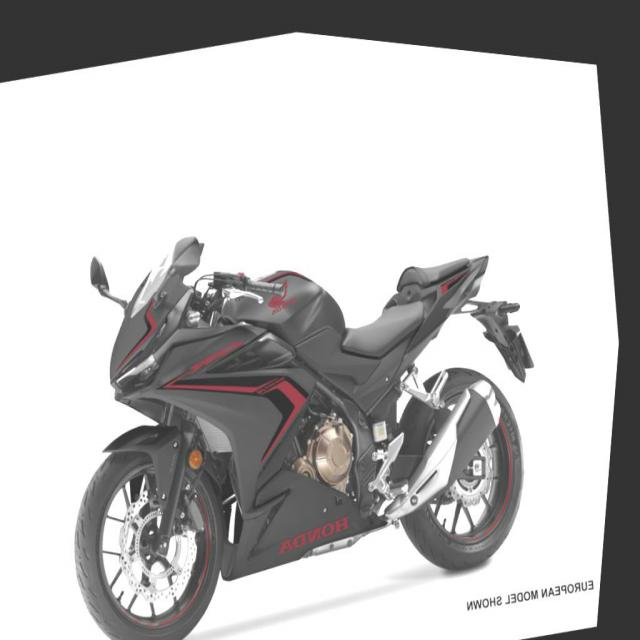CBR500R: (27, 118, 587, 639)
